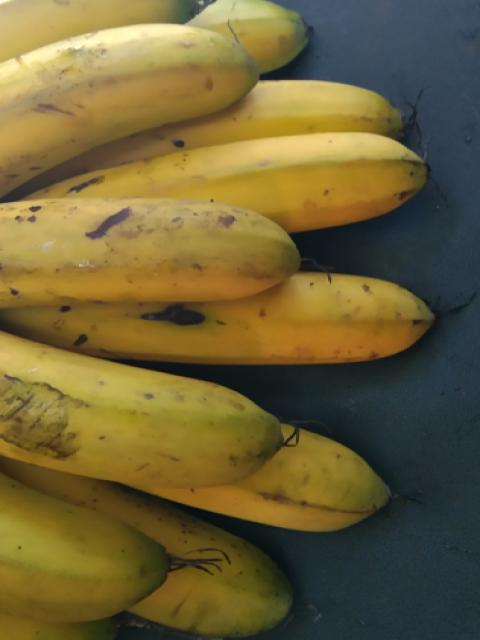ripe: (0, 318, 284, 478), (0, 15, 262, 186), (0, 167, 315, 304), (160, 123, 427, 237), (197, 406, 418, 542), (205, 252, 457, 358)
